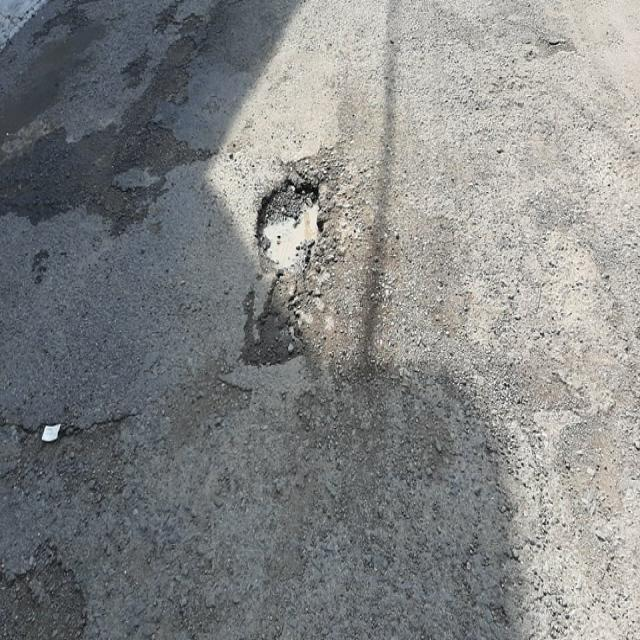Buraco: (252, 177, 330, 274)
